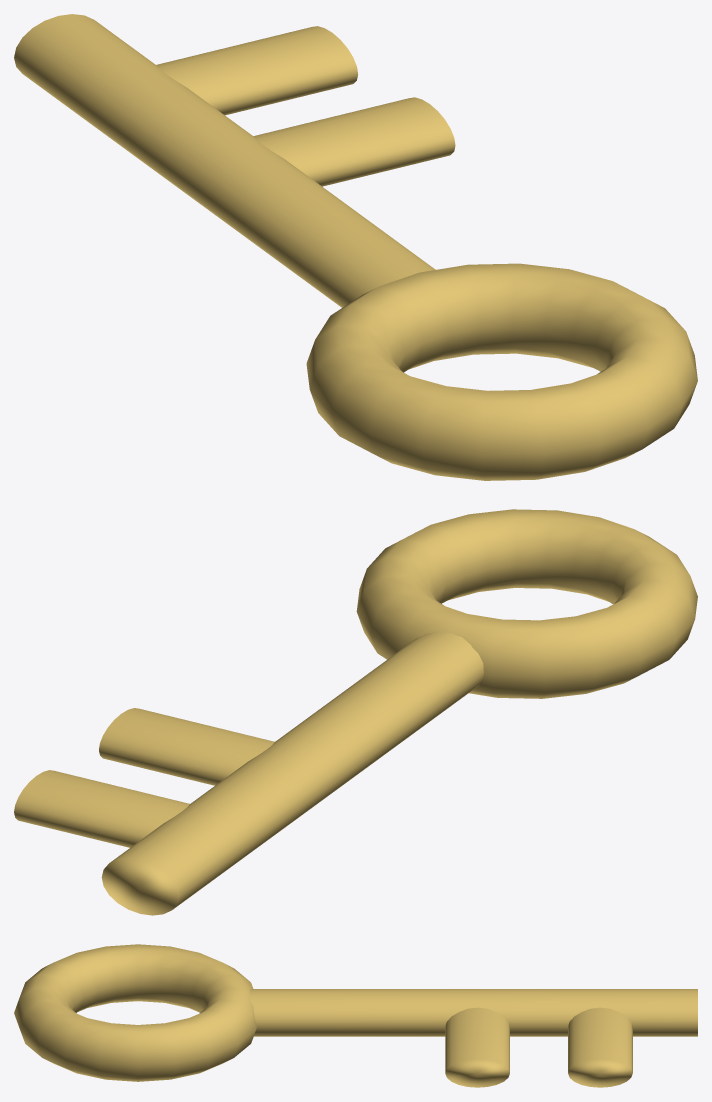
Rendered from keys.fbx.
The picture shows the model from 3 angles, top to bottom: view 1: azimuth 30°, elevation 25°; view 2: azimuth 150°, elevation 25°; view 3: azimuth 270°, elevation 25°; orthographic projection. The views are drawn at different scales.
Parts seen in each view (by area): view 1: pTorus2; view 2: pTorus2; view 3: pTorus2.
Part boxes in pixels (<box>): pTorus2: <box>14,14,697,480</box>; pTorus2: <box>14,509,697,915</box>; pTorus2: <box>14,944,697,1087</box>.
Bounding box in the file's own units: 41.08 × 8.37 × 105.
